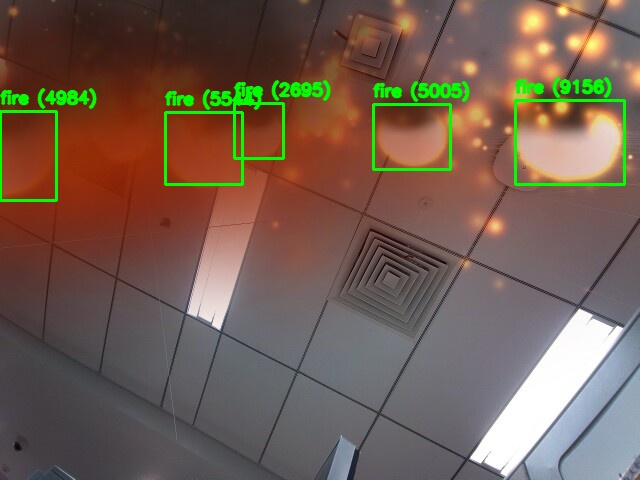fire: (515, 100, 624, 184), (165, 112, 242, 184), (373, 104, 450, 169), (0, 111, 56, 200), (234, 103, 283, 158)
